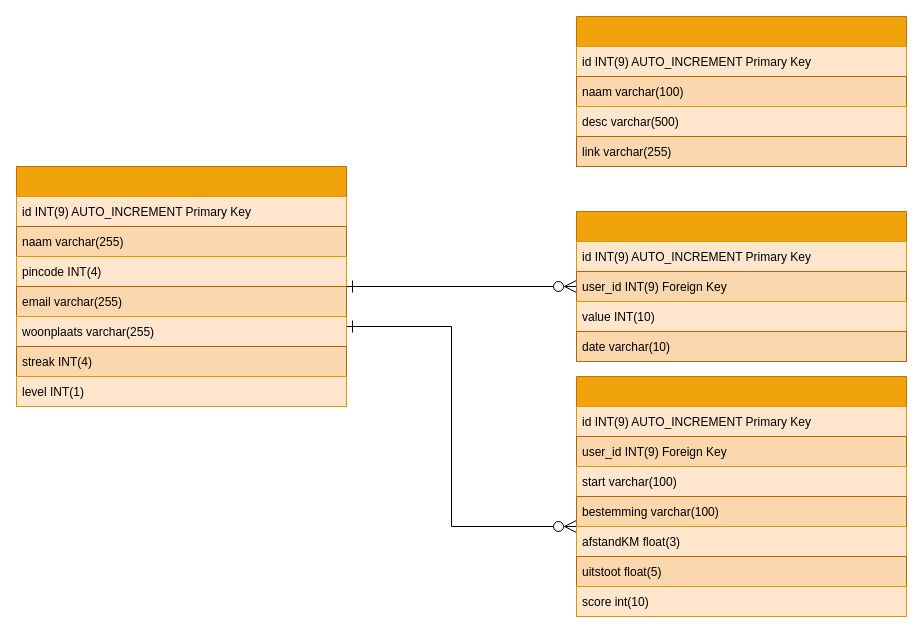
This 923x633 diagram has some shape labels left out. The box of each missing label's shape, as (x1, y1, x2, y2) in pixels:
Badges: (576, 16, 906, 166)
Scores: (576, 210, 906, 362)
Travels: (576, 376, 906, 616)
Users: (16, 166, 346, 406)
